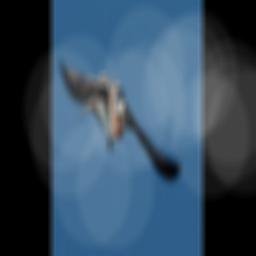Swallow: (60, 47, 181, 178)
